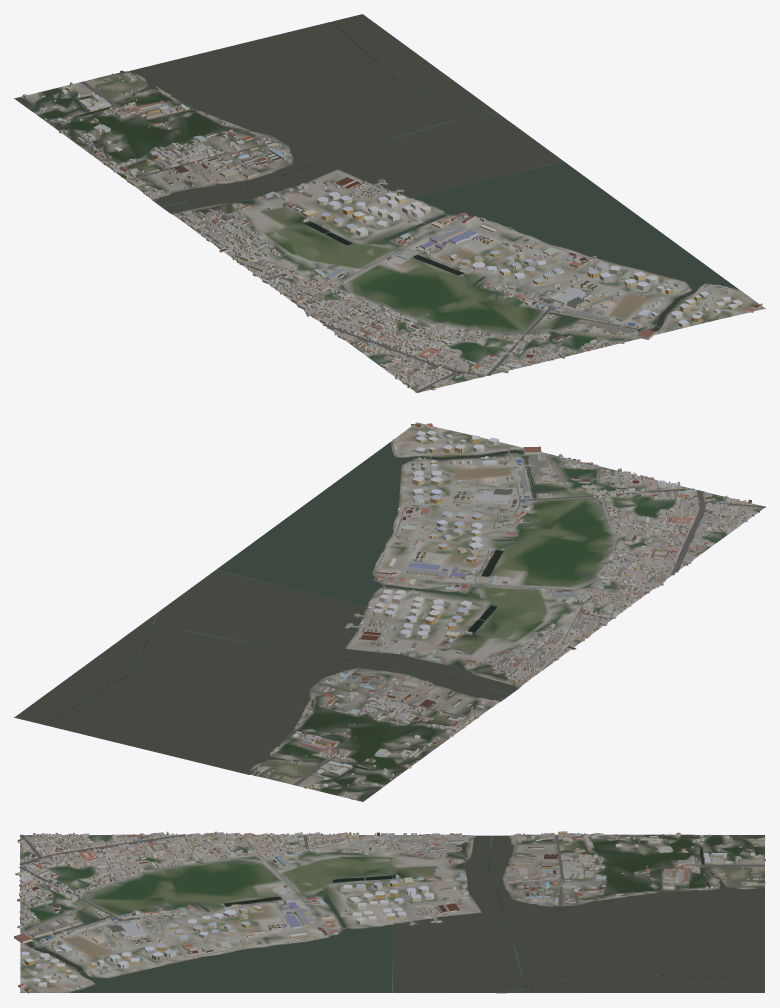
3 views of the same model, one above another, from view 1: azimuth 30°, elevation 25°; view 2: azimuth 150°, elevation 25°; view 3: azimuth 270°, elevation 25° (orthographic). The views are drawn at different scales.
Parts seen in each view (by area): view 1: water, ground, buildings, roads; view 2: water, ground, buildings, roads; view 3: ground, water, buildings, roads.
Boxes of the visible parts, x1,y1,x2,y2 form: water: [76, 14, 738, 331]; ground: [14, 19, 765, 391]; buildings: [22, 70, 762, 390]; roads: [47, 81, 765, 392]; water: [15, 442, 567, 774]; ground: [14, 422, 765, 801]; buildings: [254, 423, 759, 799]; roads: [274, 439, 765, 790]; ground: [20, 834, 764, 993]; water: [27, 835, 764, 992]; buildings: [14, 831, 765, 993]; roads: [19, 834, 764, 992].
Bounding box in the file's own units: 1422 × 22.61 × 2828.
